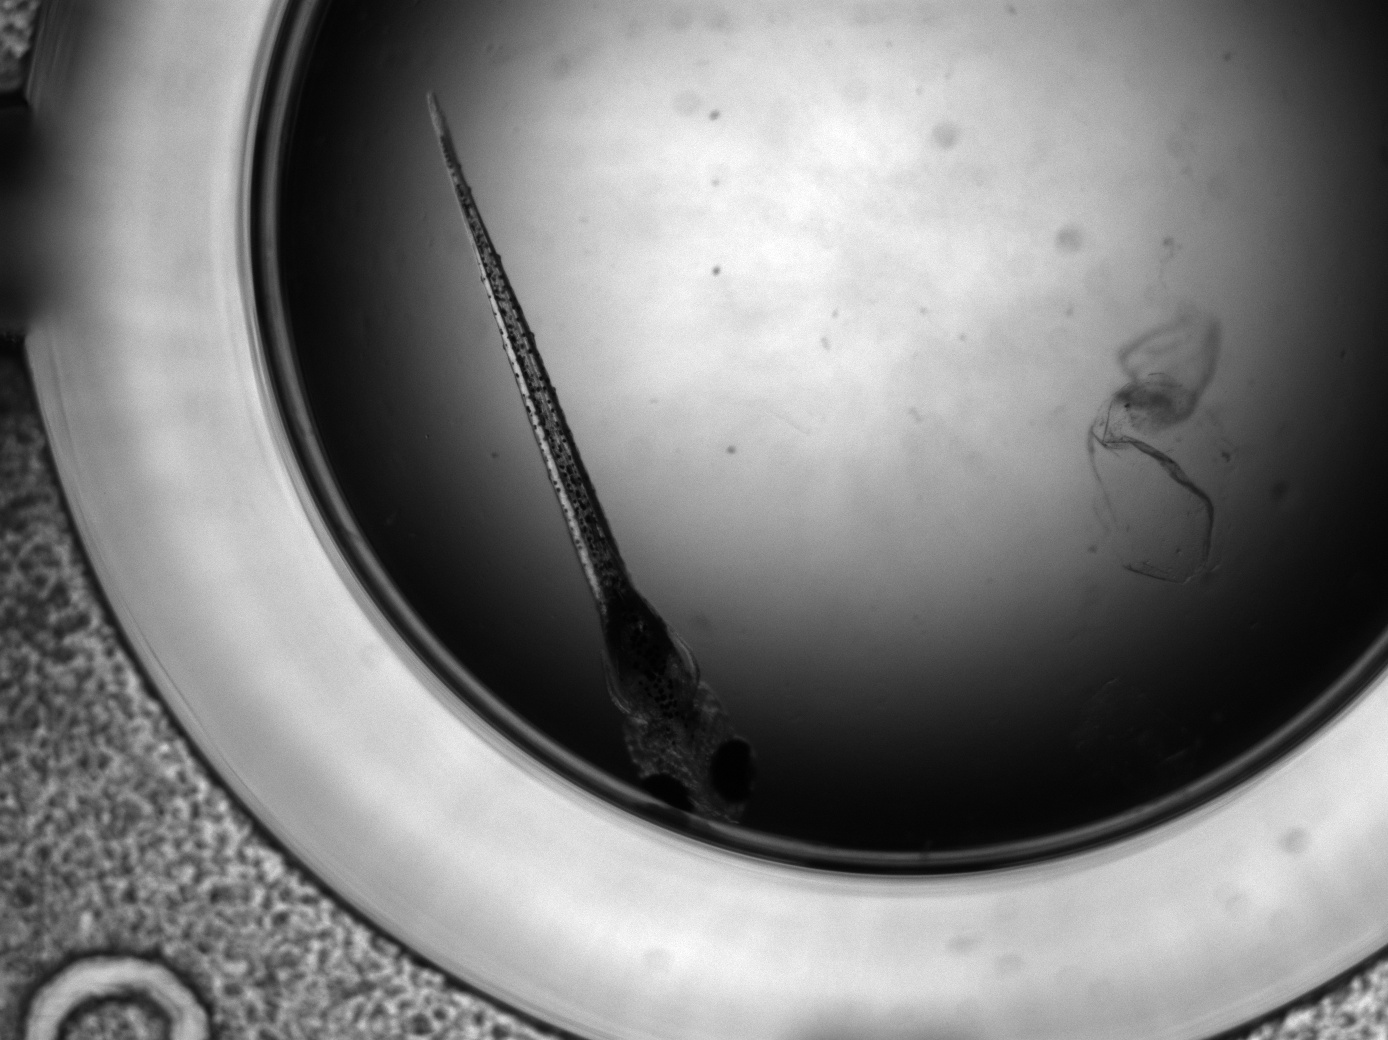debris: (1087, 302, 1230, 587)
embryo: (427, 88, 760, 826)
eye: (710, 736, 760, 809), (639, 773, 698, 818)
yolksac: (593, 587, 705, 722)
